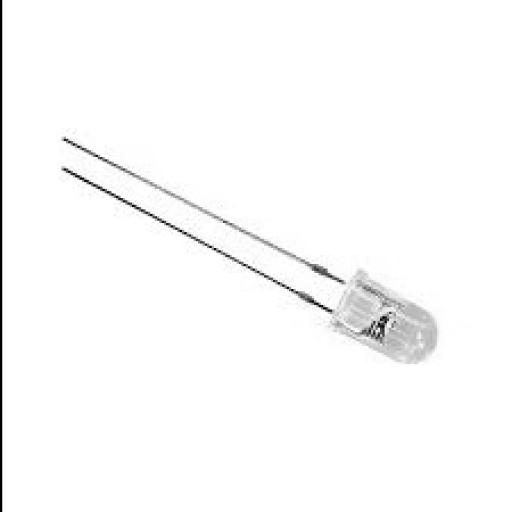LED: (152, 158, 479, 444)
